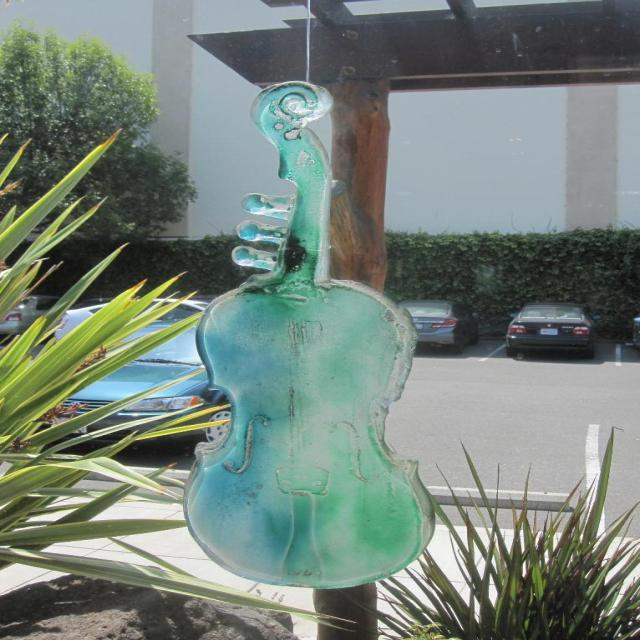car: (508, 297, 597, 357)
